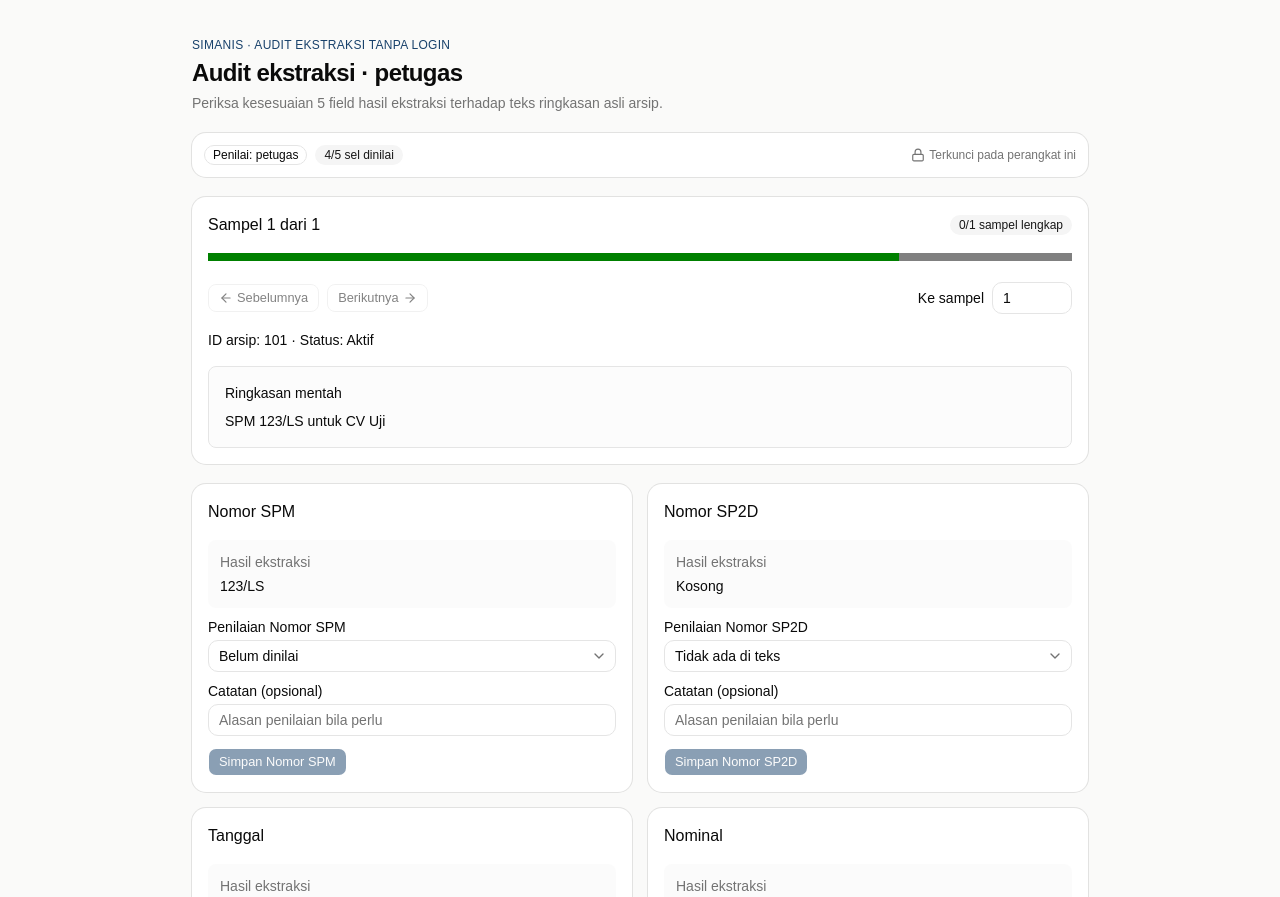
penilai eksternal dapat mengisi audit ekstraksi lewat /f/au_ tanpa login dan menyerahkan final
Expected: the text "SPM 123/LS untuk CV Uji" is shown, [225,413,385,429]
Click the dropdown named "Penilaian Nomor SPM": (259, 656) [208,640,616,672]
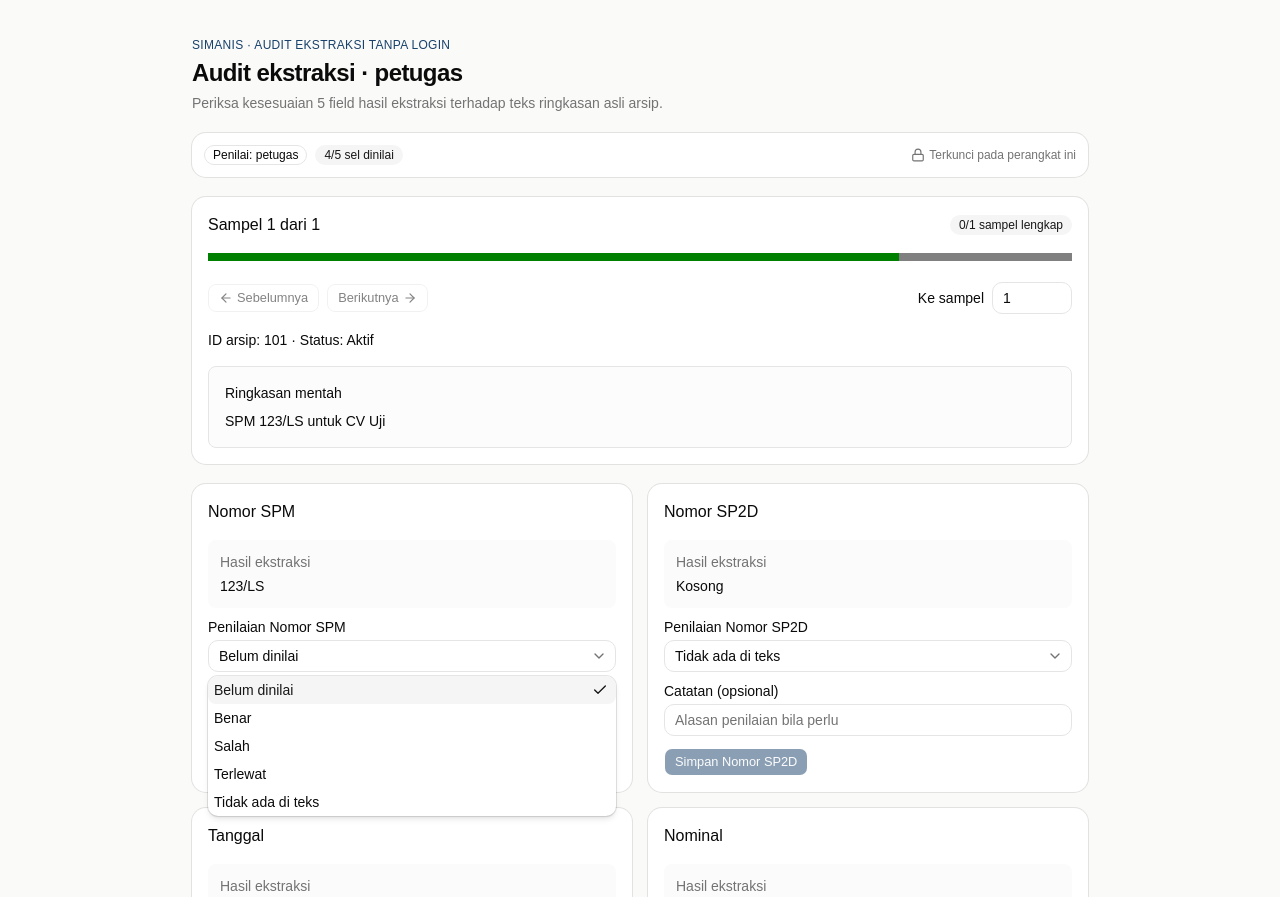
Click the option "Benar": (233, 718) [214,710,251,726]
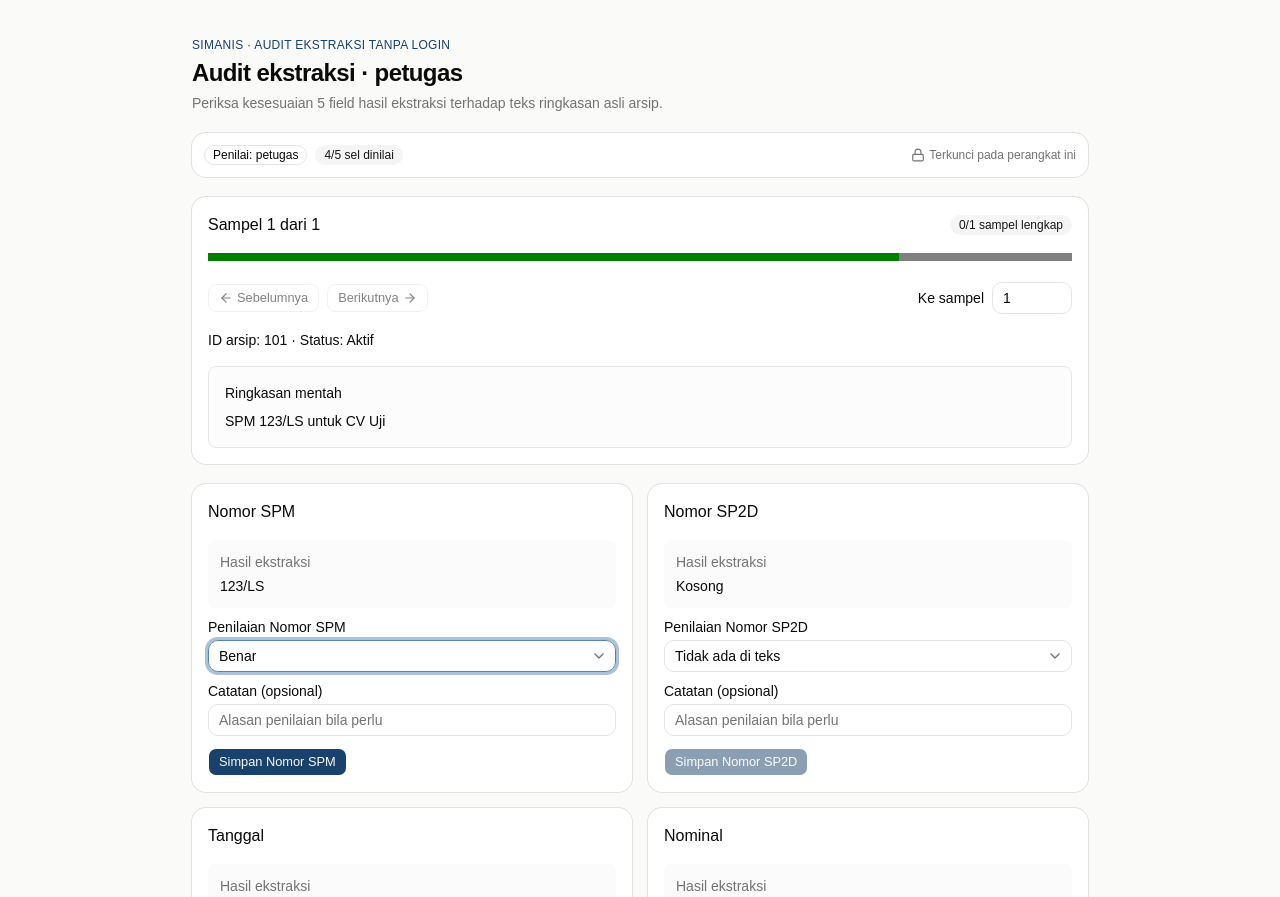
Click the button "Simpan Nomor SPM": (277, 762) [208,748,347,776]
(page scrolled)
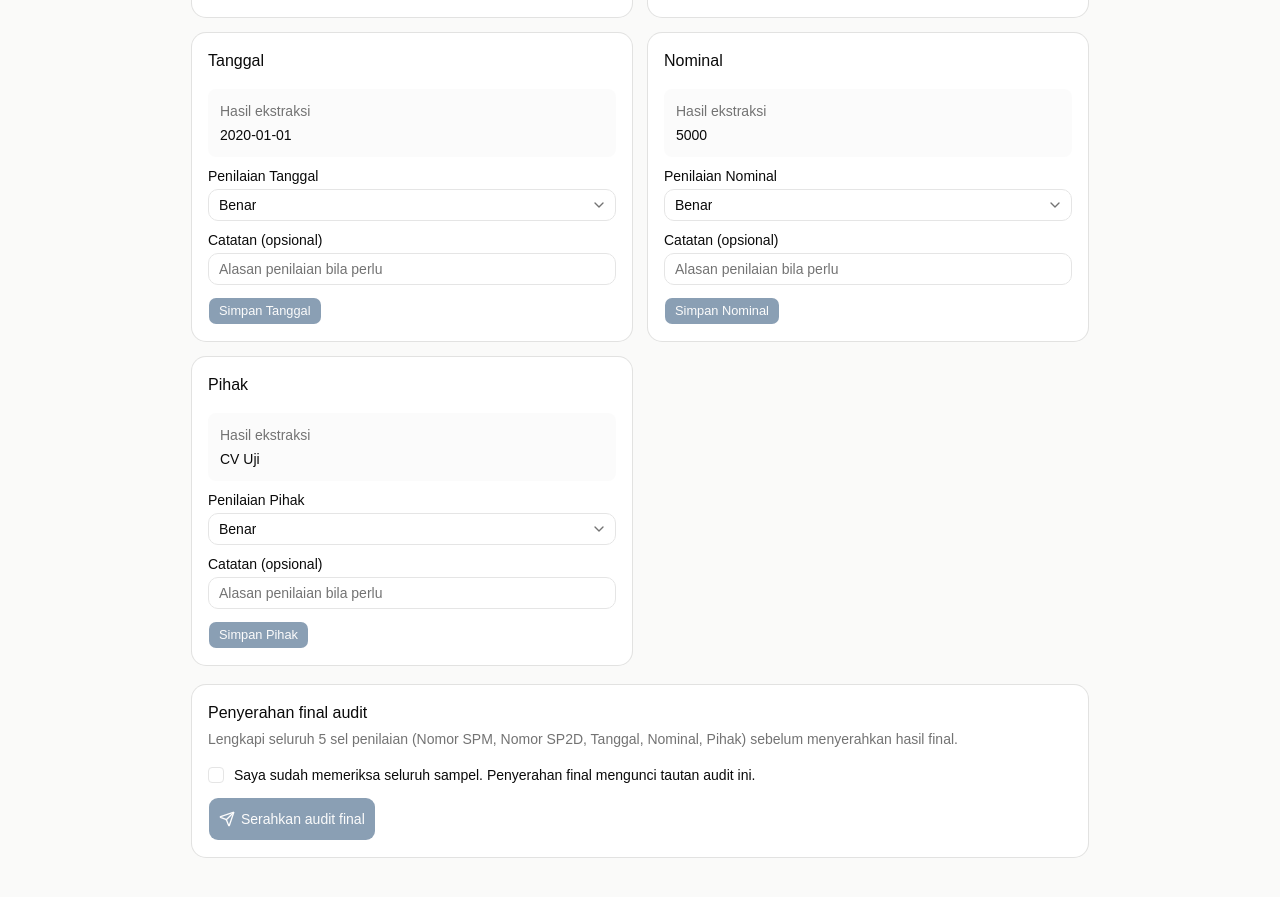
Click the checkbox named "Saya sudah memeriksa seluruh sampel": (216, 775) [208,767,224,783]
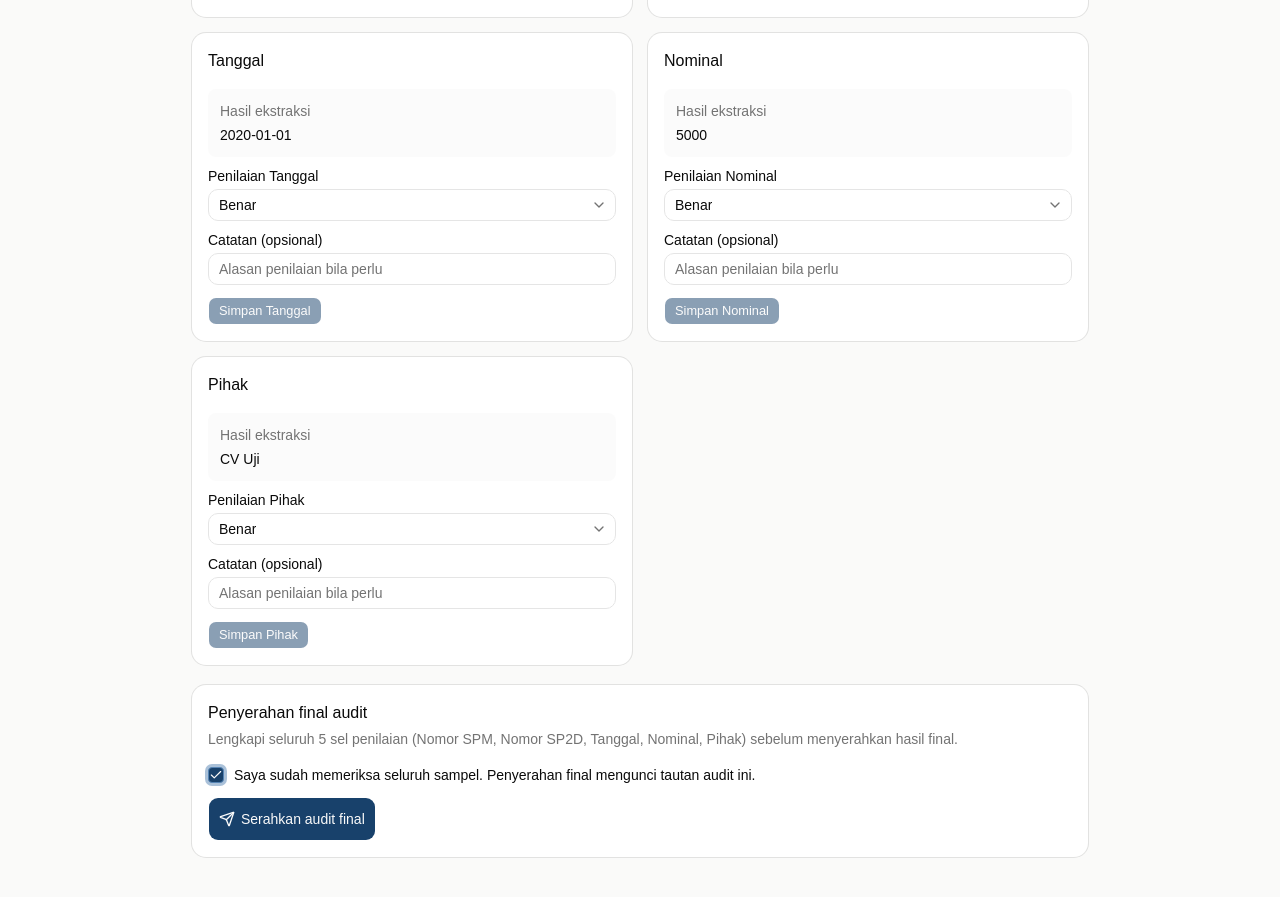
Click the button "Serahkan audit final": (292, 819) [208,797,376,841]
(page scrolled)
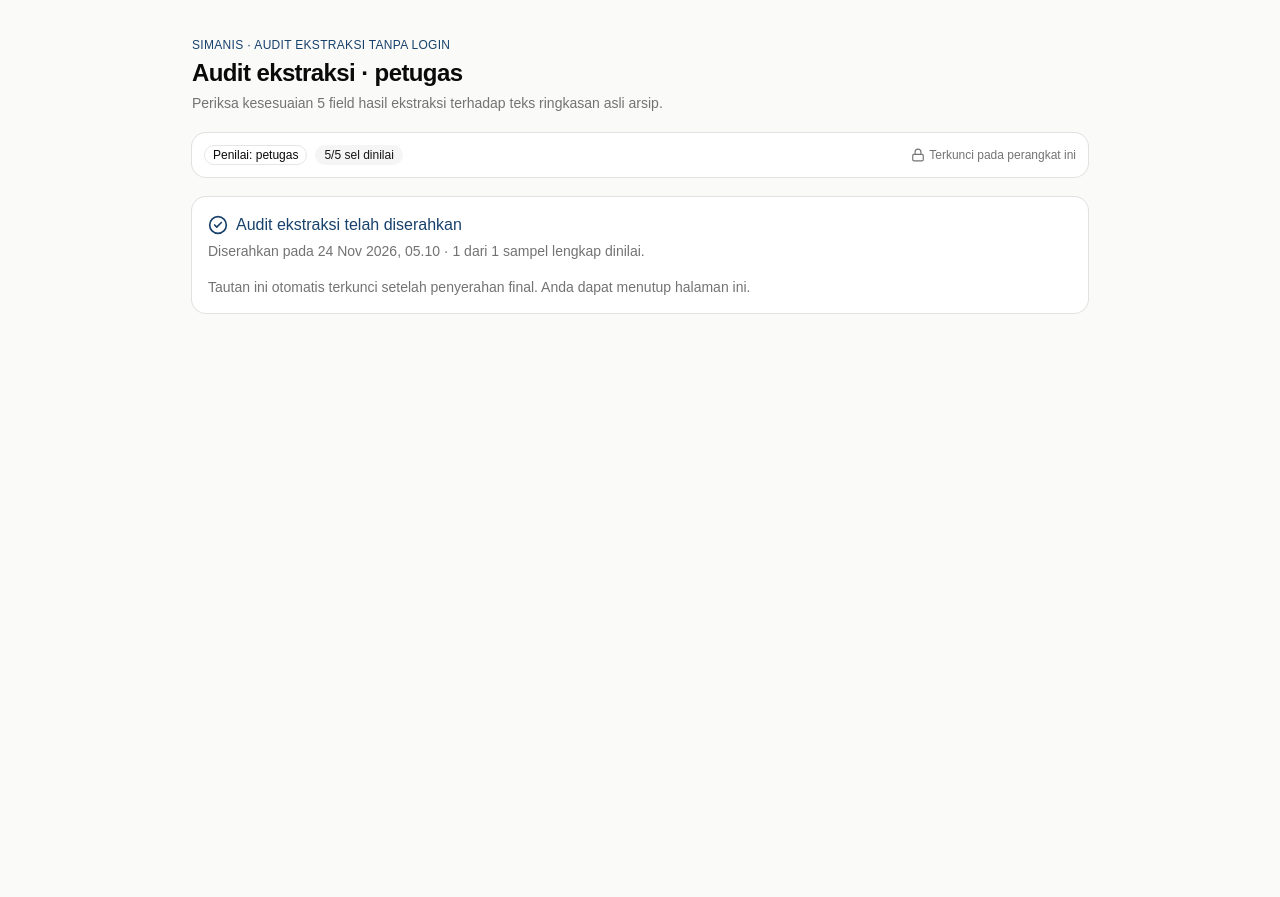
Expected: the text "Audit ekstraksi telah diserahkan" is shown, [208,215,462,235]
